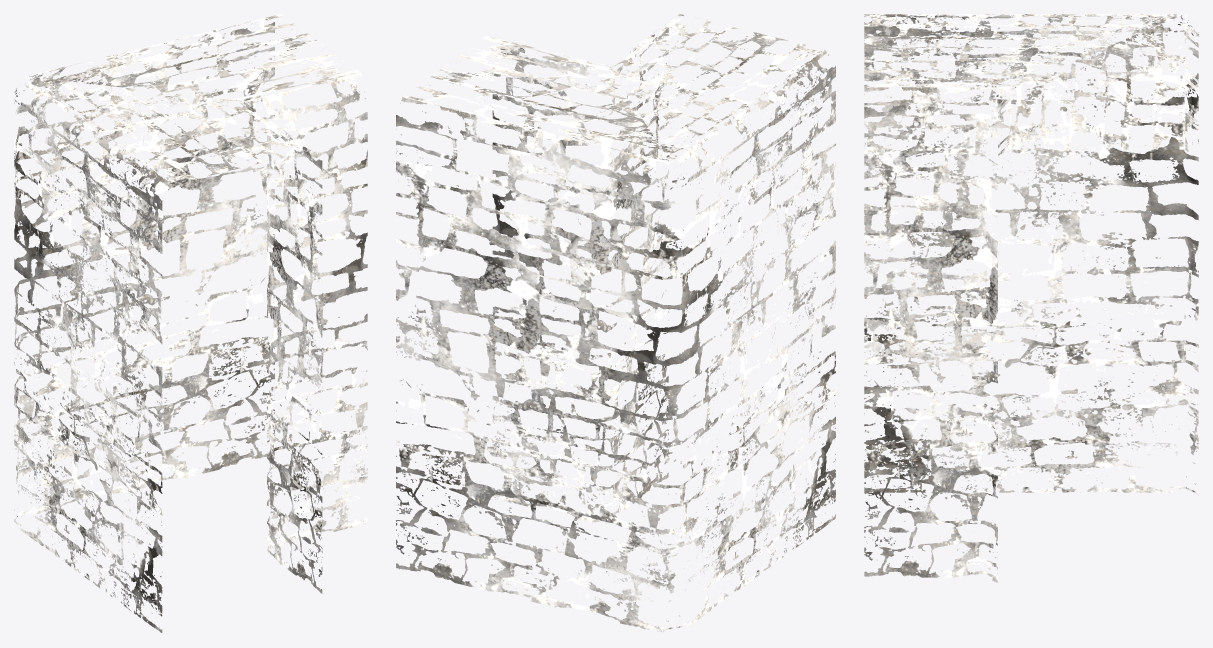
File: SM_basement_A_corner_01_01.fbx
The picture shows the model from 3 angles, left to right: view 1: azimuth 30°, elevation 25°; view 2: azimuth 150°, elevation 25°; view 3: azimuth 270°, elevation 25°; orthographic projection. The views are drawn at different scales.
Visible parts, largest first — view 1: SM_basement_A_corner_01_01_LOD0; view 2: SM_basement_A_corner_01_01_LOD0; view 3: SM_basement_A_corner_01_01_LOD0.
Part boxes in pixels (bbox=[...]): SM_basement_A_corner_01_01_LOD0: bbox=[14, 14, 367, 632]; SM_basement_A_corner_01_01_LOD0: bbox=[396, 14, 835, 632]; SM_basement_A_corner_01_01_LOD0: bbox=[864, 14, 1198, 582].
Bounding box in the file's own units: 125 × 125 × 200.
1 material, 1 textured.
